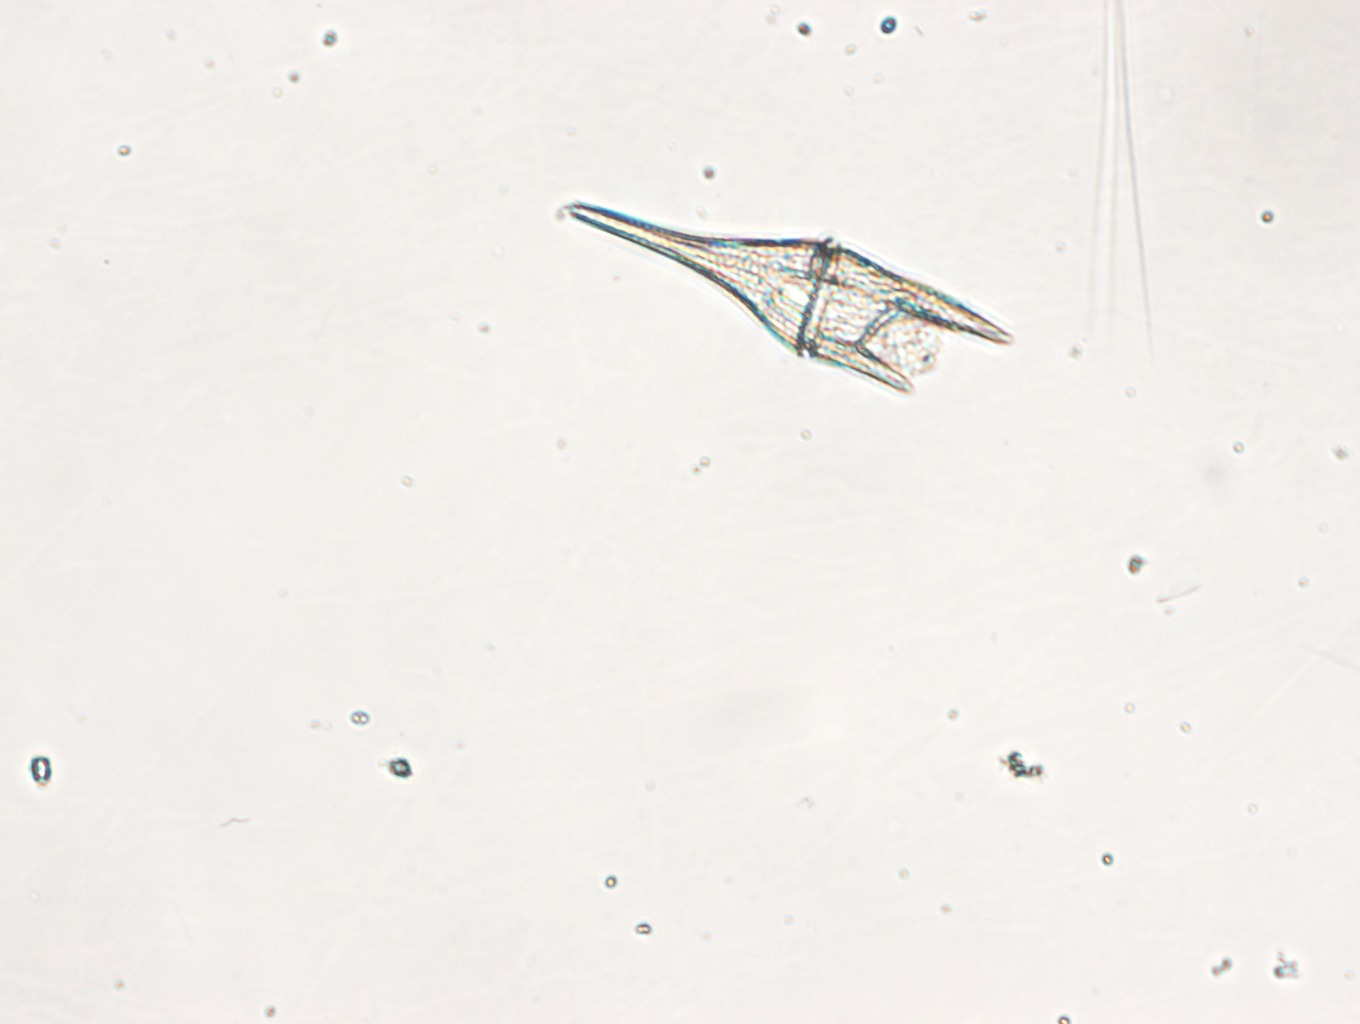ceratium furca: (561, 194, 1017, 406)
